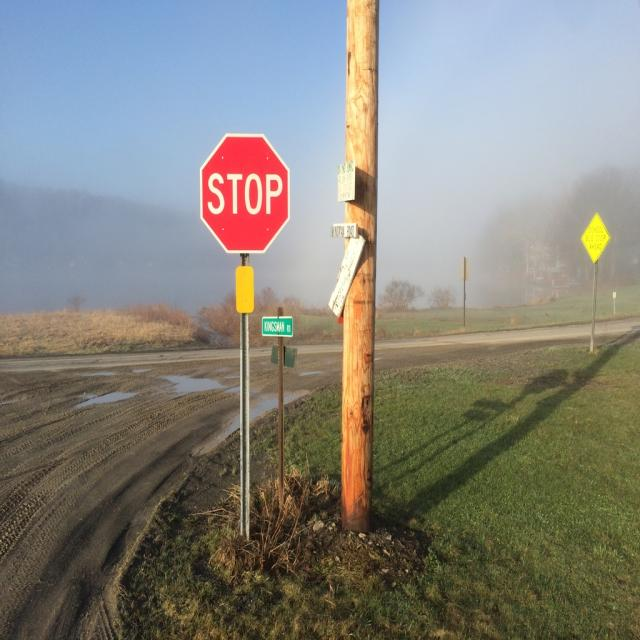Stop-sign: (198, 132, 290, 255)
